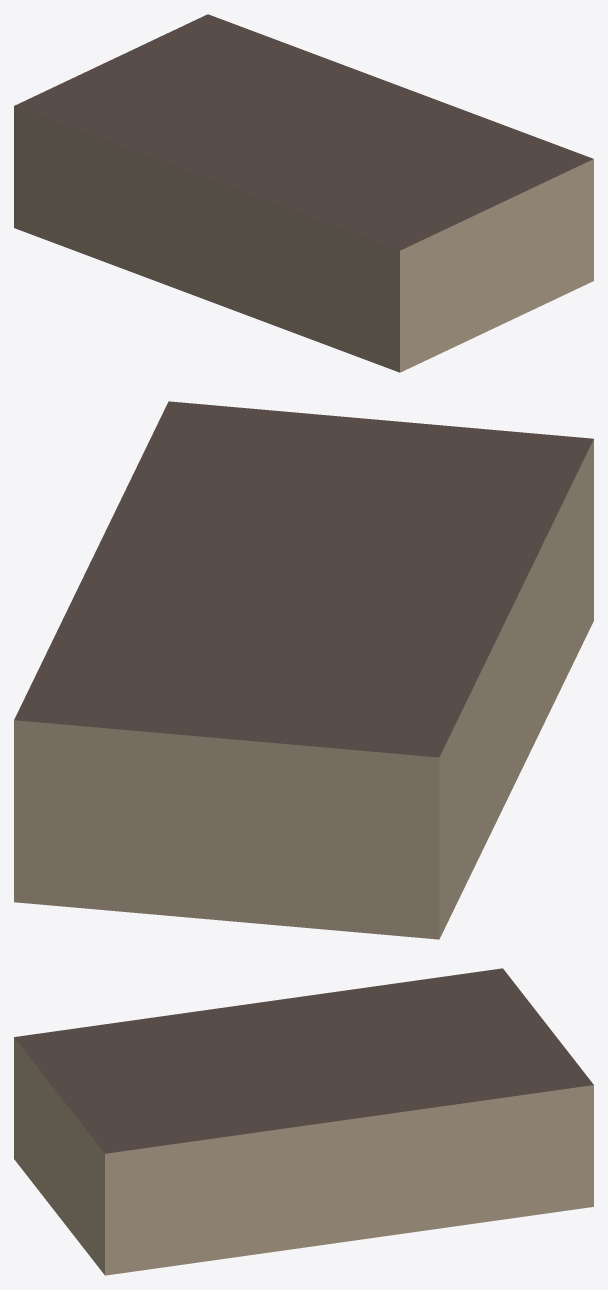
3 views of the same model, one above another, from view 1: azimuth 30°, elevation 25°; view 2: azimuth 150°, elevation 25°; view 3: azimuth 270°, elevation 25° (orthographic). The views are drawn at different scales.
Visible parts, largest first — view 1: HP-w372180413; view 2: HP-w372180413; view 3: HP-w372180413.
Part boxes in pixels (bbox=[...]): HP-w372180413: bbox=[14, 14, 593, 372]; HP-w372180413: bbox=[14, 401, 593, 939]; HP-w372180413: bbox=[14, 968, 593, 1275].
Bounding box in the file's own units: 29.39 × 9 × 38.83.
